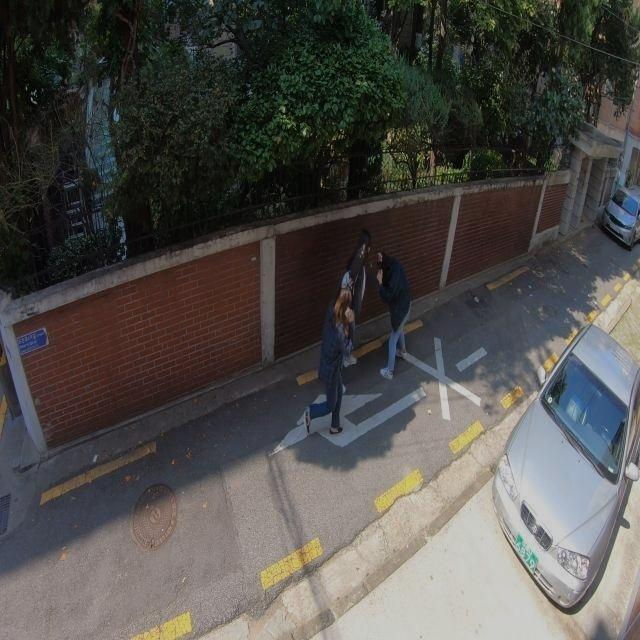fight: (304, 236, 411, 442)
